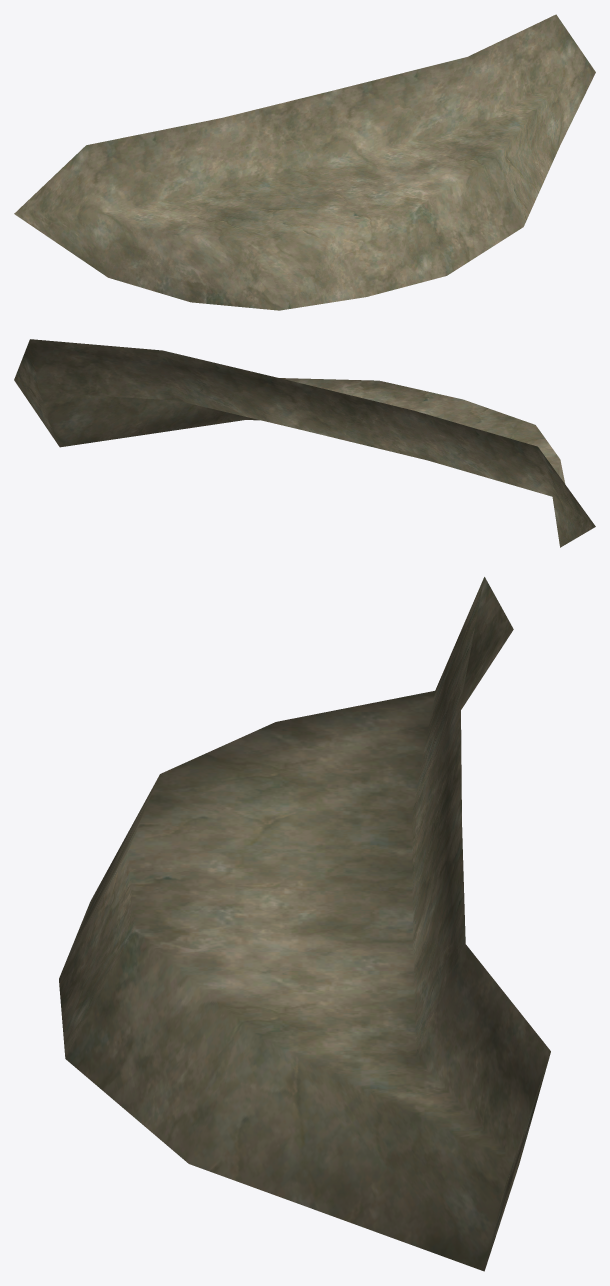
File: EKH_THRONE_PS_TH_OBJECT18.fbx
The picture shows the model from 3 angles, top to bottom: view 1: azimuth 30°, elevation 25°; view 2: azimuth 150°, elevation 25°; view 3: azimuth 270°, elevation 25°; orthographic projection. The views are drawn at different scales.
Visible parts, largest first — view 1: EKH_THRONE_PS_TH_OBJECT18; view 2: EKH_THRONE_PS_TH_OBJECT18; view 3: EKH_THRONE_PS_TH_OBJECT18.
Boxes of the visible parts, x1,y1,x2,y2 form: EKH_THRONE_PS_TH_OBJECT18: [14, 14, 595, 310]; EKH_THRONE_PS_TH_OBJECT18: [14, 339, 595, 547]; EKH_THRONE_PS_TH_OBJECT18: [59, 577, 550, 1271].
Size of the model in its own units: 46379 by 8900 by 17064.
Materials: 1 (1 with a texture image).
